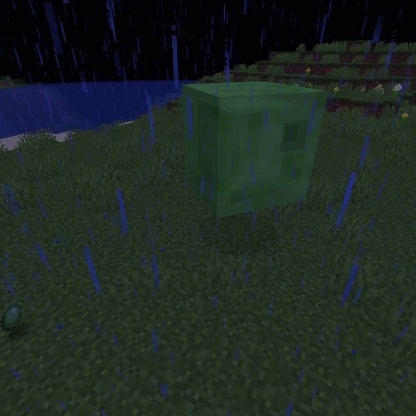slime: (178, 75, 333, 224)
